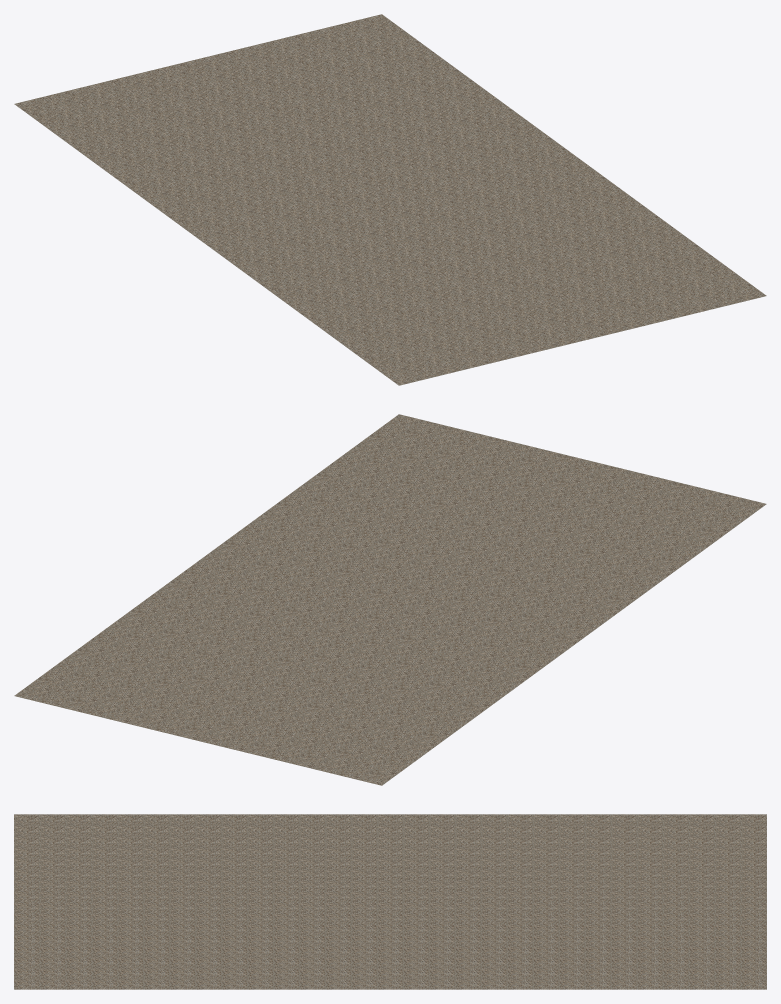
File: Tile20.fbx
3 renders of one model, top to bottom at view 1: azimuth 30°, elevation 25°; view 2: azimuth 150°, elevation 25°; view 3: azimuth 270°, elevation 25°, orthographic. The views are drawn at different scales.
Visible parts, largest first — view 1: Plane; view 2: Plane; view 3: Plane.
Boxes of the visible parts, x1,y1,x2,y2 form: Plane: [14, 14, 766, 385]; Plane: [14, 414, 766, 785]; Plane: [14, 814, 766, 989].
Size of the model in its own units: 32 by 0 by 58.
Materials: 464 (464 with a texture image).
